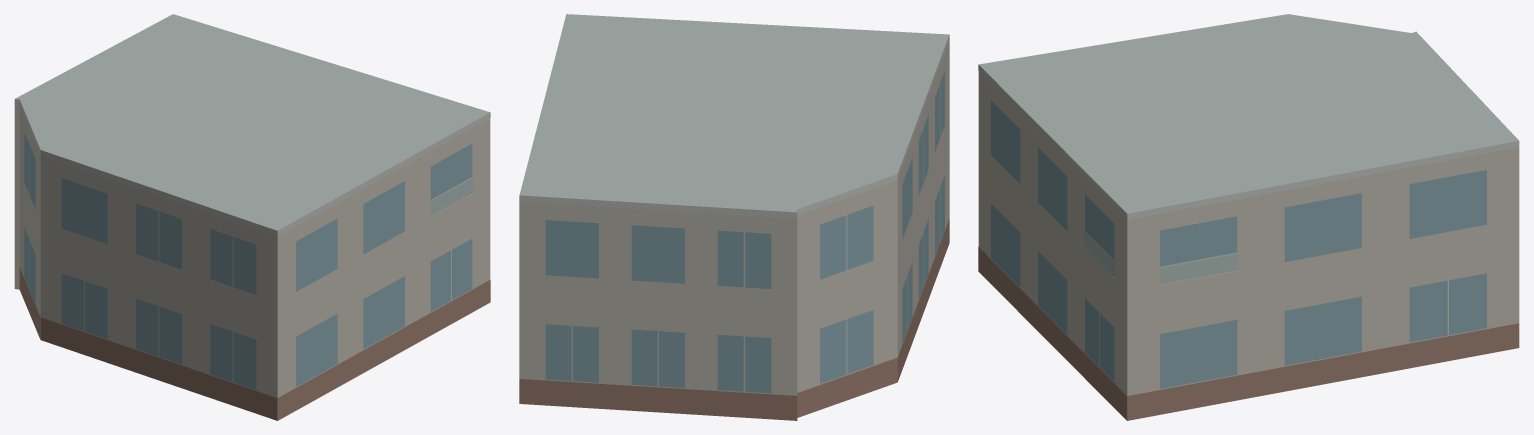
Rendered from survey-upis-32835530.glb.
3 renders of one model, left to right at view 1: azimuth 30°, elevation 25°; view 2: azimuth 150°, elevation 25°; view 3: azimuth 270°, elevation 25°, orthographic. The views are drawn at different scales.
Visible parts, largest first — view 1: survey-upis-32835530.tmp; view 2: survey-upis-32835530.tmp; view 3: survey-upis-32835530.tmp.
Boxes of the visible parts, x1=… form: survey-upis-32835530.tmp: x1=14, y1=14, x2=490, y2=420; survey-upis-32835530.tmp: x1=519, y1=14, x2=949, y2=420; survey-upis-32835530.tmp: x1=978, y1=14, x2=1519, y2=420.
Bounding box in the file's own units: 16.91 × 8.16 × 19.34.
